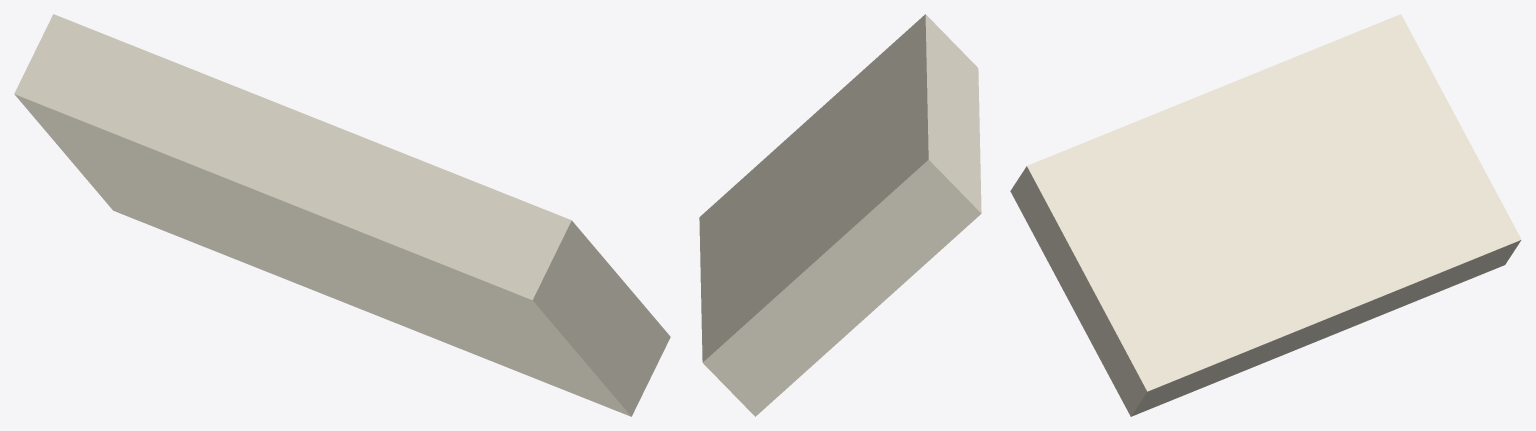
The picture shows the model from 3 angles, left to right: view 1: azimuth 30°, elevation 25°; view 2: azimuth 150°, elevation 25°; view 3: azimuth 270°, elevation 25°; orthographic projection. The views are drawn at different scales.
Parts seen in each view (by area): view 1: ZA_cc5c50231b4618da; view 2: ZA_cc5c50231b4618da; view 3: ZA_cc5c50231b4618da.
Part boxes in pixels (x1,y1,x2,y2): ZA_cc5c50231b4618da: (14, 14, 670, 416); ZA_cc5c50231b4618da: (699, 14, 981, 416); ZA_cc5c50231b4618da: (1010, 14, 1521, 416).
Size of the model in its own units: 0.00314 by 0.00221 by 0.00388.
